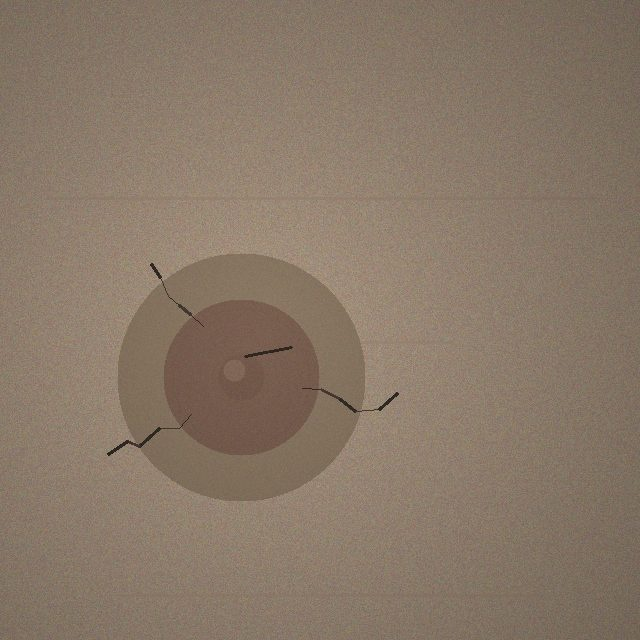crack: (117, 253, 365, 501)
